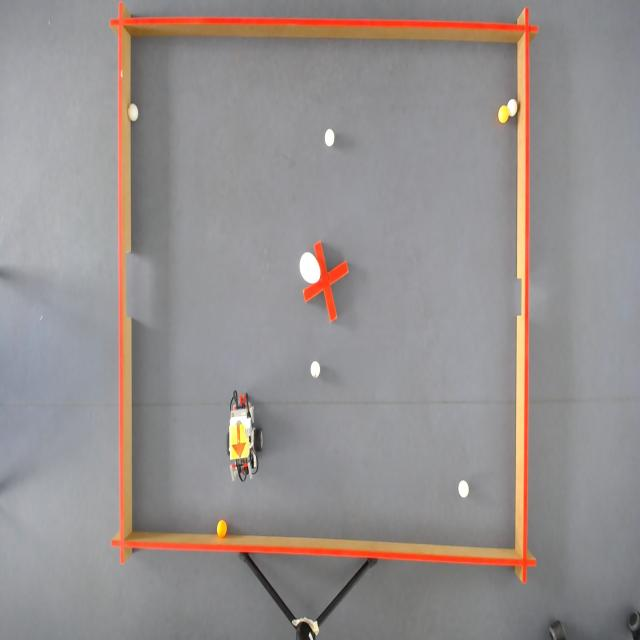cross: (303, 240, 350, 322)
egg: (299, 250, 322, 286)
orange_ball: (216, 517, 228, 539), (498, 104, 510, 124)
robot: (230, 421, 248, 460)
white_ball: (323, 125, 337, 148), (457, 478, 470, 501), (506, 95, 518, 118), (128, 102, 140, 124), (309, 358, 321, 379)
